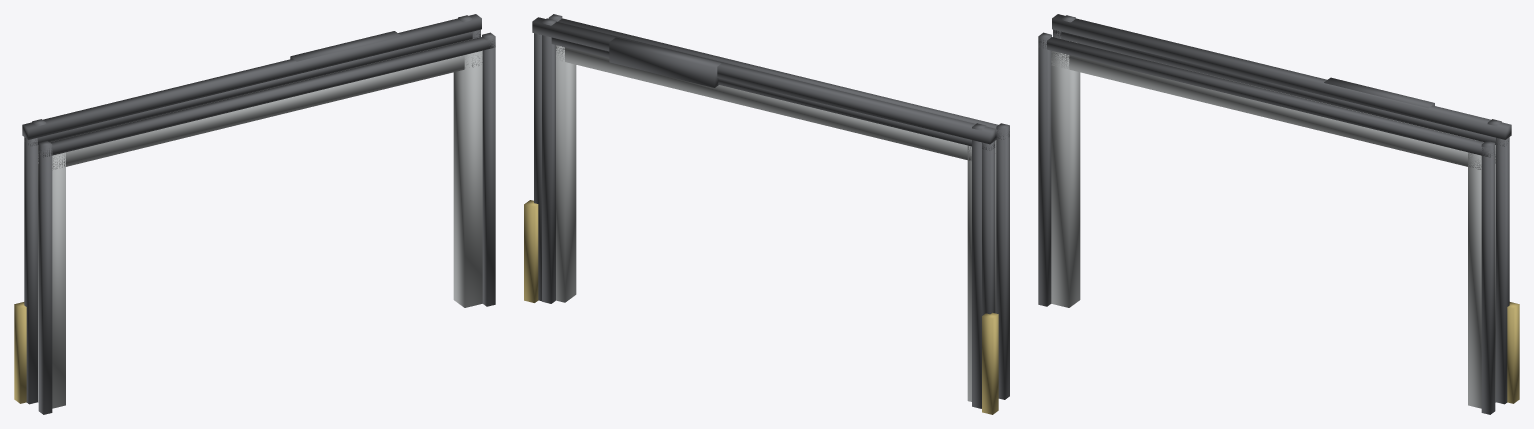
File: bay_opening_service_bay_w420_h240_d20.glb
The picture shows the model from 3 angles, left to right: view 1: azimuth 30°, elevation 25°; view 2: azimuth 150°, elevation 25°; view 3: azimuth 330°, elevation 25°; orthographic projection.
Visible parts, largest first — view 1: world; view 2: world; view 3: world.
Part boxes in pixels (<box>): world: <box>14,14,495,414</box>; world: <box>524,14,1009,414</box>; world: <box>1038,14,1519,414</box>.
Size of the model in its own units: 4.89 by 2.79 by 0.422.
